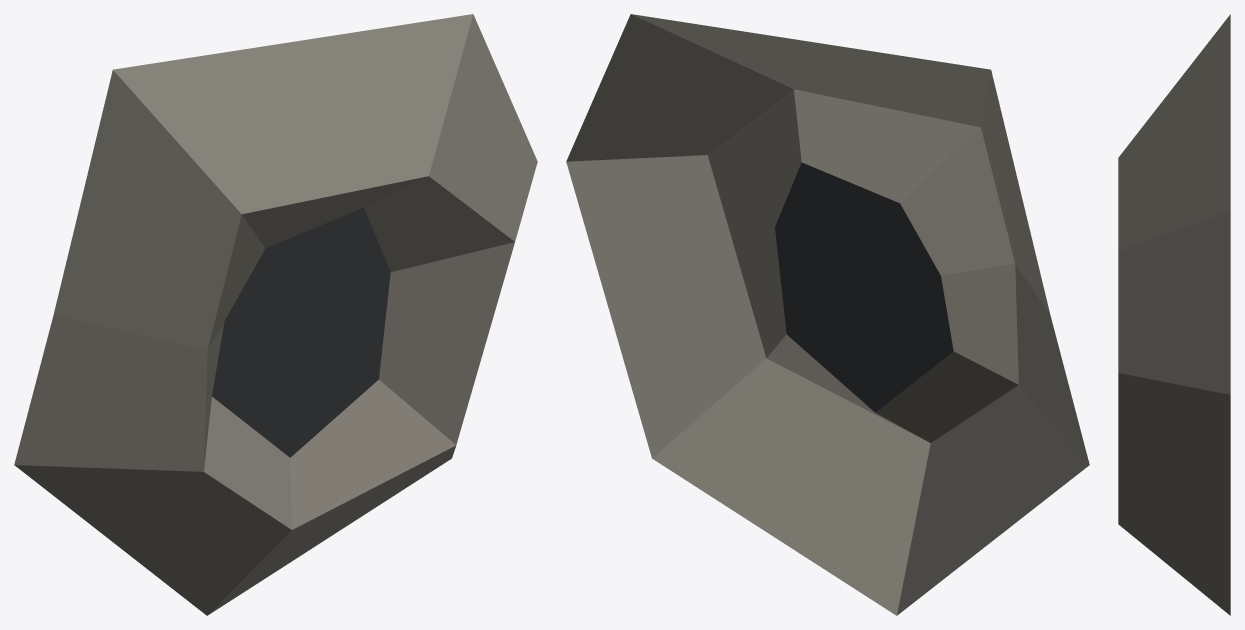
Rendered from SM_Bullet_Hole_C.fbx.
3 renders of one model, left to right at view 1: azimuth 30°, elevation 25°; view 2: azimuth 150°, elevation 25°; view 3: azimuth 270°, elevation 25°, orthographic. The views are drawn at different scales.
Visible parts, largest first — view 1: SM_Bullet_Hole_C; view 2: SM_Bullet_Hole_C; view 3: SM_Bullet_Hole_C.
Boxes of the visible parts, bbox=[...] form: SM_Bullet_Hole_C: bbox=[14, 14, 537, 615]; SM_Bullet_Hole_C: bbox=[566, 14, 1089, 615]; SM_Bullet_Hole_C: bbox=[1118, 14, 1230, 615].
Bounding box in the file's own units: 24.54 × 25.5 × 4.82.
